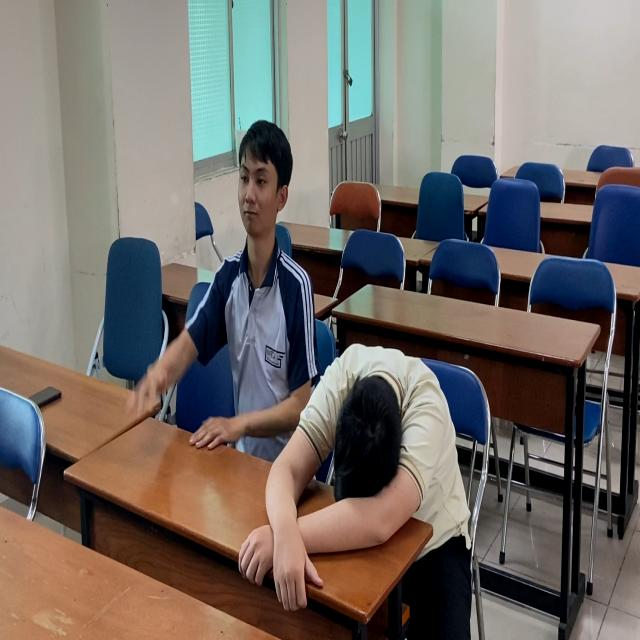sleep: (265, 327, 475, 577)
